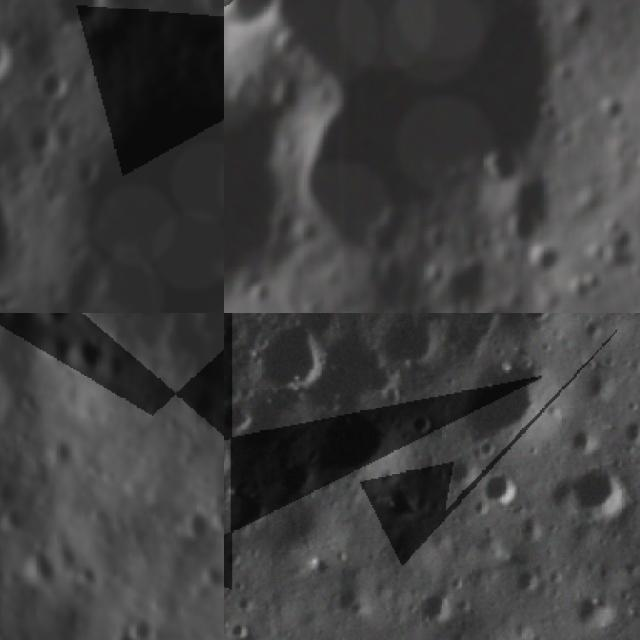crater: (454, 350, 561, 454), (307, 406, 404, 490), (234, 316, 324, 398), (314, 332, 400, 407), (568, 454, 634, 526), (372, 313, 436, 369), (60, 323, 114, 377), (52, 0, 115, 45), (569, 587, 622, 633), (575, 362, 619, 408), (415, 584, 459, 629), (176, 504, 220, 548), (119, 603, 168, 640), (503, 201, 545, 244), (479, 465, 519, 509), (32, 70, 69, 115), (481, 147, 524, 184), (19, 313, 79, 337), (566, 270, 604, 304), (224, 396, 258, 434), (608, 224, 640, 258), (197, 555, 224, 595), (0, 33, 19, 87), (616, 413, 640, 454), (426, 263, 447, 285)
